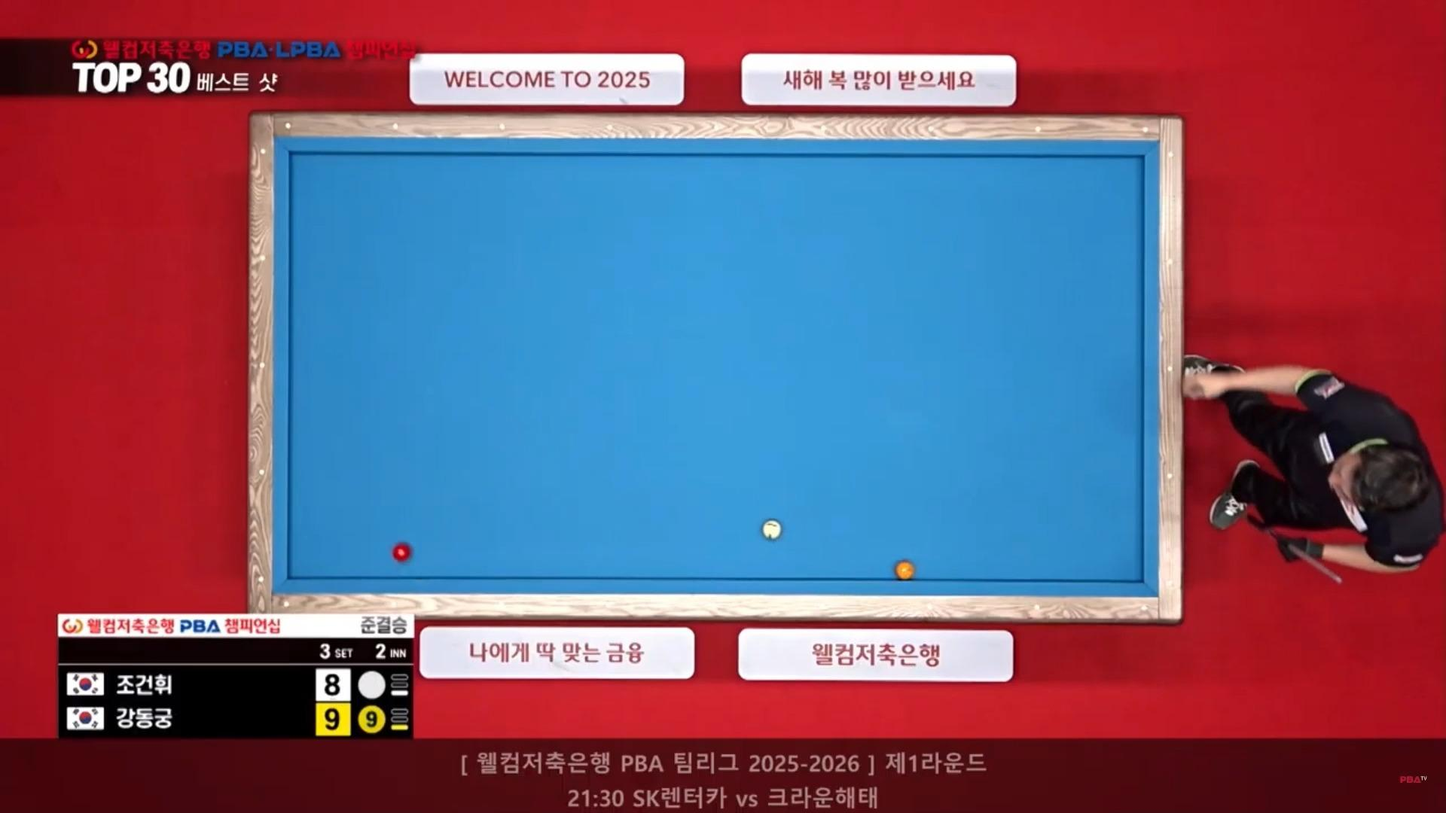Red: (391, 544, 413, 560)
White: (763, 522, 787, 541)
billiard-ball-Yellow: (896, 560, 916, 576)
